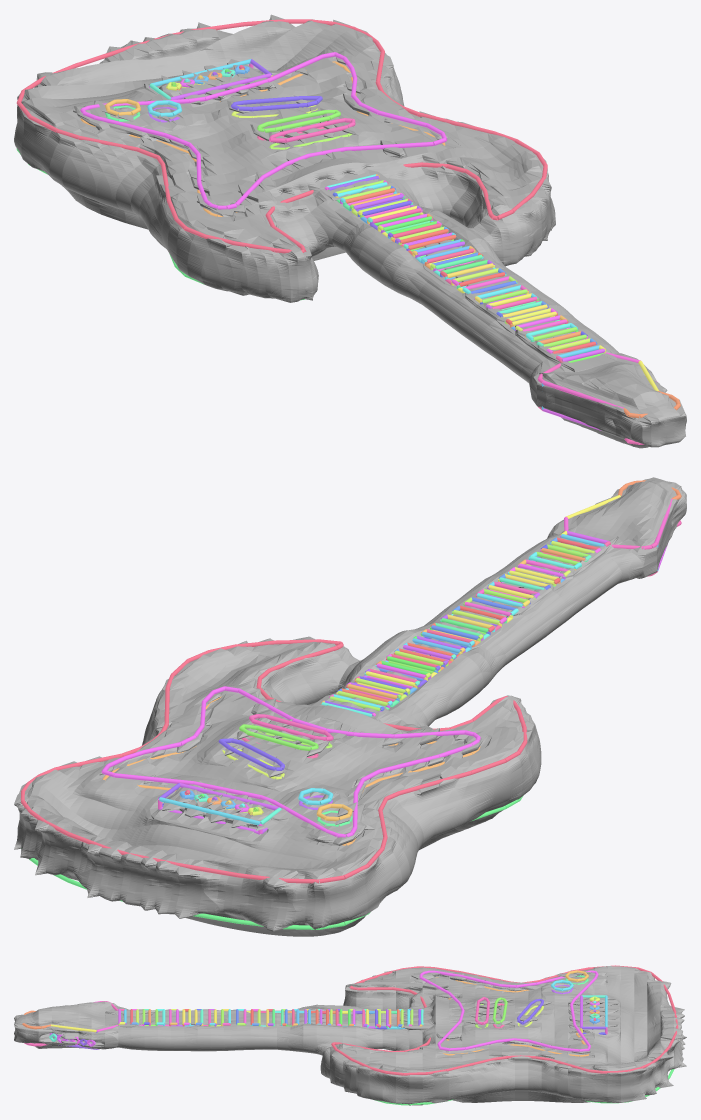
The model's file is onshape_guitar.gltf.
3 views of the same model, one above another, from view 1: azimuth 30°, elevation 25°; view 2: azimuth 150°, elevation 25°; view 3: azimuth 270°, elevation 25° (orthographic). The views are drawn at different scales.
Size of the model in its own units: 0.3735 by 0.0995 by 0.9554.
